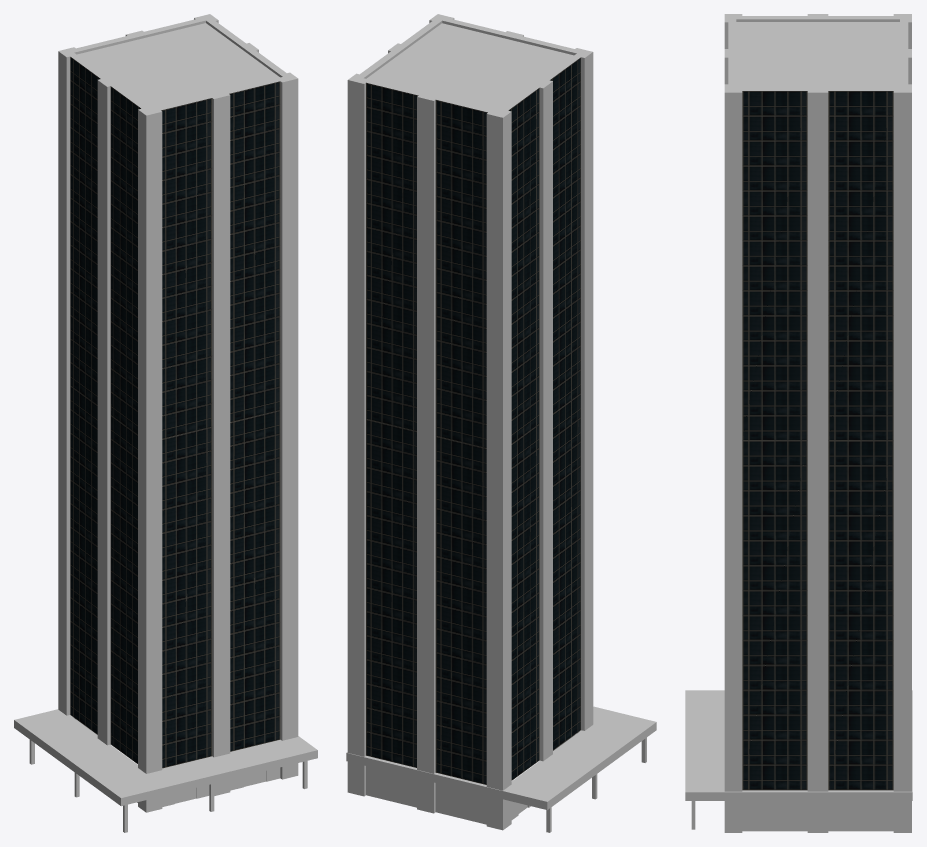
3 views of the same model, side by side, from view 1: azimuth 30°, elevation 25°; view 2: azimuth 150°, elevation 25°; view 3: azimuth 270°, elevation 25° (orthographic). The views are drawn at different scales.
Visible parts, largest first — view 1: BC-092; view 2: BC-092; view 3: BC-092.
Boxes of the visible parts, x1,y1,x2,y2 form: BC-092: [14, 14, 317, 832]; BC-092: [346, 14, 656, 832]; BC-092: [685, 14, 912, 832].
Size of what is drawn, in the model's own units: 24.97 by 84.5 by 23.49.
